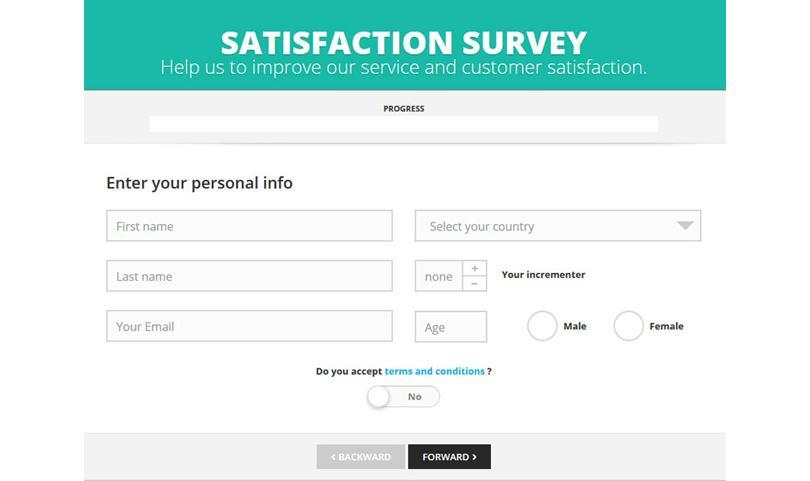button: (408, 444, 494, 472), (317, 445, 408, 470)
dropdown: (414, 210, 703, 243)
input: (108, 210, 393, 244), (106, 260, 394, 293), (106, 311, 392, 343), (415, 312, 490, 343), (414, 260, 464, 293)
label: (105, 170, 298, 195), (313, 366, 498, 379), (503, 270, 589, 283), (650, 321, 687, 333), (562, 321, 589, 332)
radio: (528, 311, 560, 342), (616, 311, 646, 342)
switch: (368, 384, 442, 410)
